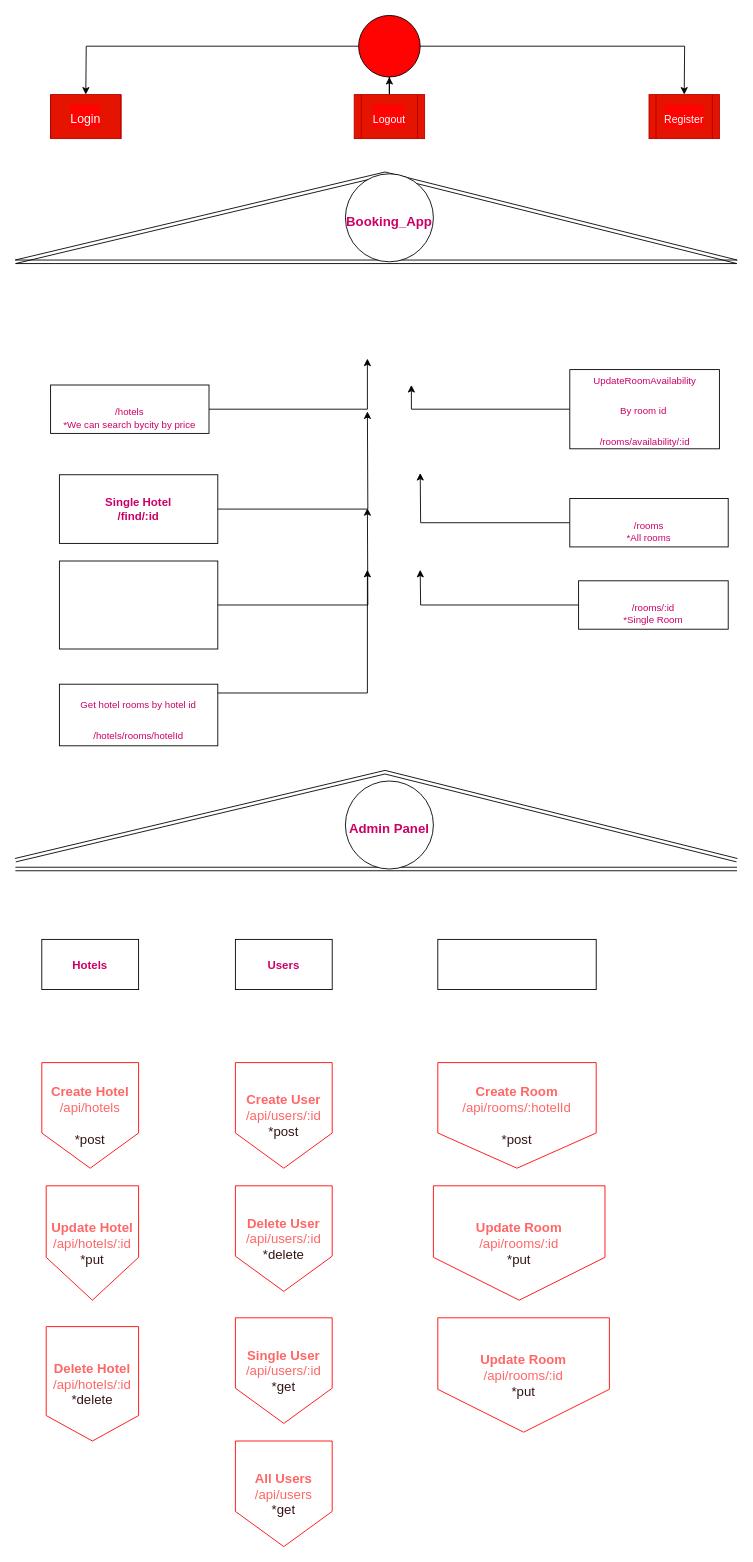
This 753x1562 diagram has some shape labels left out. The shapes that lost their labels are listed below. From the top down, each one's centre as x and y in pixels, then its label:
At pixel 389 46: "Start".
At pixel 138 604: "/hotels *Search by destination dates options".
At pixel 516 964: "Rooms".
